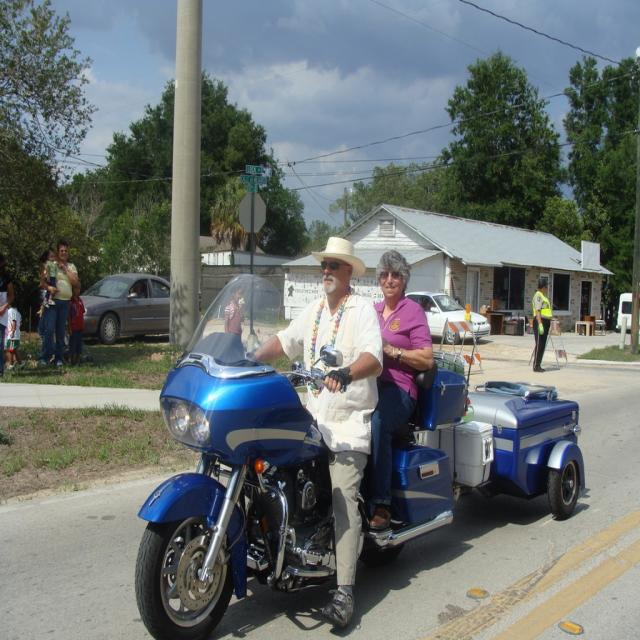Motorbikes: (135, 260, 583, 639)
Passenger Car: (427, 283, 494, 345)
Pedestrians: (44, 238, 79, 371), (531, 280, 557, 372)
